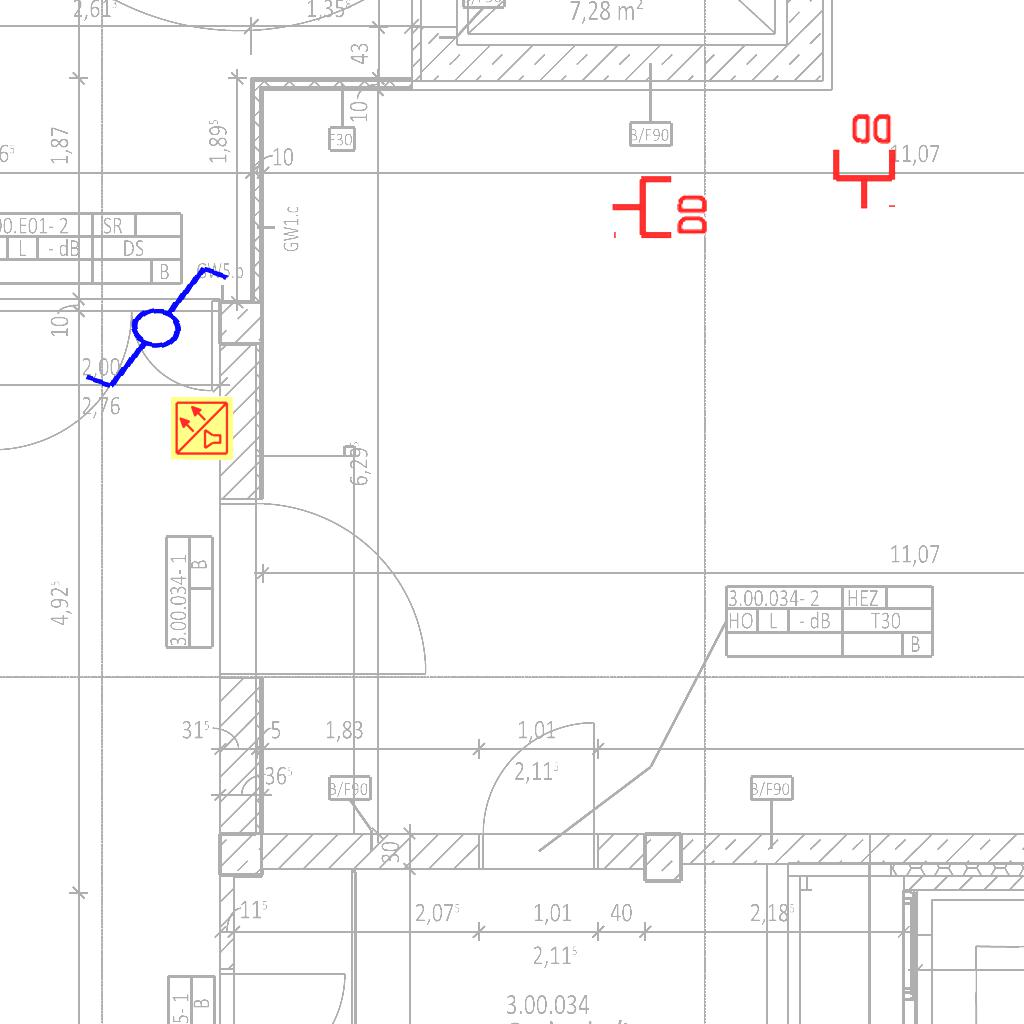Datenanschluss_zweifach: (828, 109, 897, 212), (609, 171, 712, 240)
OKW_Multisensormelder_(Kombination_optischer_Rauch-Kahlenmonoxid_Waerme-Melder): (169, 395, 235, 461)
Wechselschalter: (62, 245, 235, 405)
